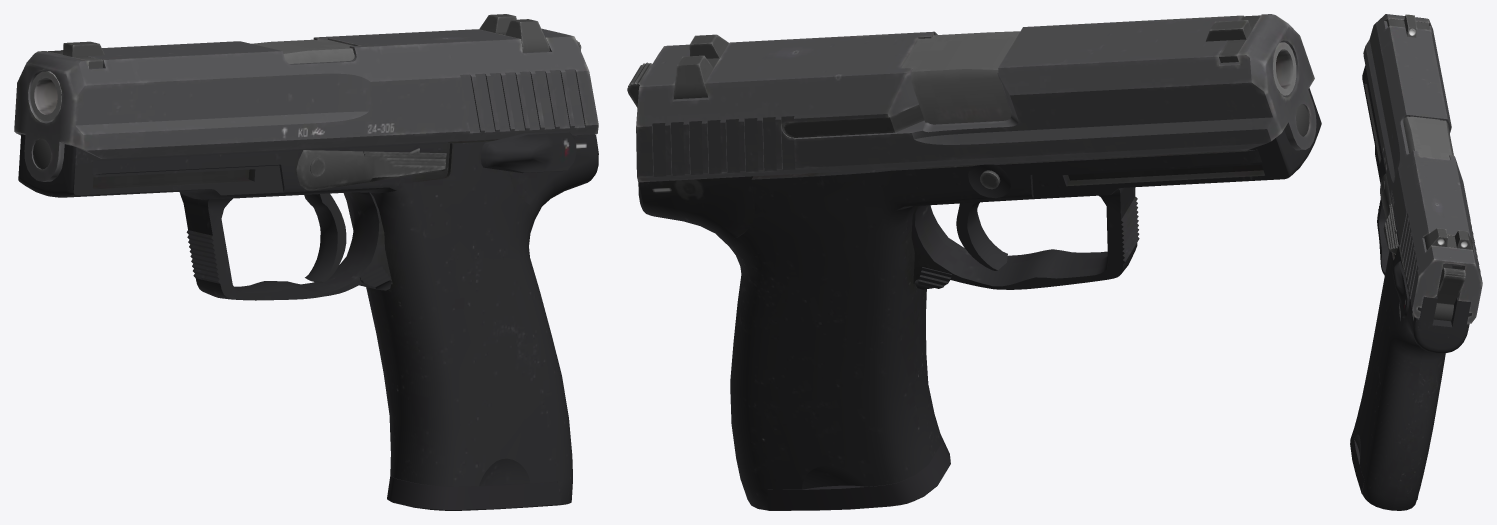
The model's file is hk-usp.glb.
3 views of the same model, side by side, from view 1: azimuth 30°, elevation 25°; view 2: azimuth 150°, elevation 25°; view 3: azimuth 270°, elevation 25° (orthographic). The views are drawn at different scales.
Parts seen in each view (by area): view 1: lower_frame_lowpoly_Material #33_0, slide_lowpoly, mechanics_lowpoly_Material #33_0, magazine_lowpoly, barrel_lowpoly, sights_lowpoly; view 2: lower_frame_lowpoly_Material #33_0, slide_lowpoly, barrel_lowpoly, magazine_lowpoly, sights_lowpoly, mechanics_lowpoly_Material #33_0, slide_insert_lowpoly; view 3: slide_lowpoly, lower_frame_lowpoly_Material #33_0, mechanics_lowpoly_Material #33_0, barrel_lowpoly, sights_lowpoly, magazine_lowpoly.
Boxes of the visible parts, x1,y1,x2,y2 form: lower_frame_lowpoly_Material #33_0: (18,134,598,504); slide_lowpoly: (14,28,598,181); mechanics_lowpoly_Material #33_0: (296,40,581,290); magazine_lowpoly: (387,476,561,510); barrel_lowpoly: (30,39,354,121); sights_lowpoly: (48,14,549,68); lower_frame_lowpoly_Material #33_0: (638,88,1321,510); slide_lowpoly: (636,14,1316,182); barrel_lowpoly: (901,31,1296,124); magazine_lowpoly: (767,434,950,510); sights_lowpoly: (673,15,1260,99); mechanics_lowpoly_Material #33_0: (627,62,1007,289); slide_insert_lowpoly: (782,104,924,137); slide_lowpoly: (1363,14,1482,323); lower_frame_lowpoly_Material #33_0: (1353,66,1471,510); mechanics_lowpoly_Material #33_0: (1380,173,1465,321); barrel_lowpoly: (1403,116,1453,159); sights_lowpoly: (1387,14,1474,253); magazine_lowpoly: (1350,264,1451,499).
Bounding box in the file's own units: 65.32 × 59.96 × 20.43.
1 material, 1 textured.
